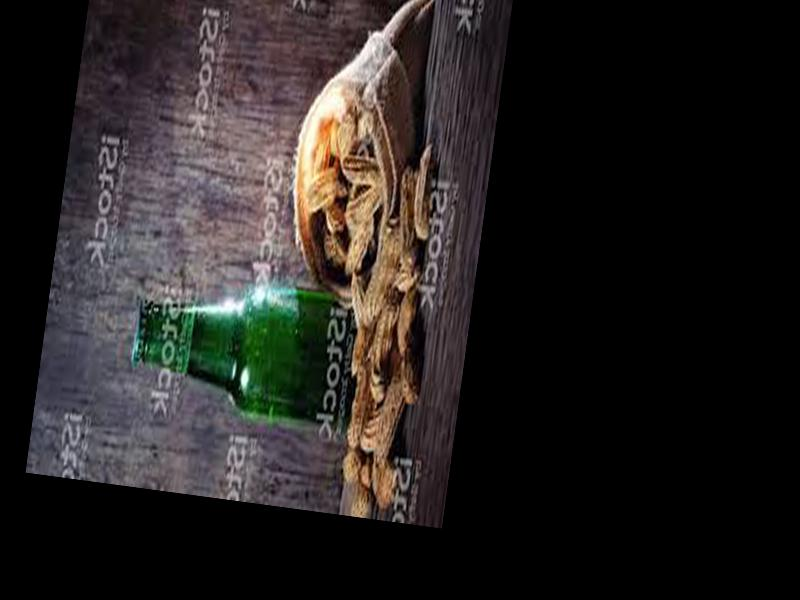Beer: (123, 263, 384, 432)
